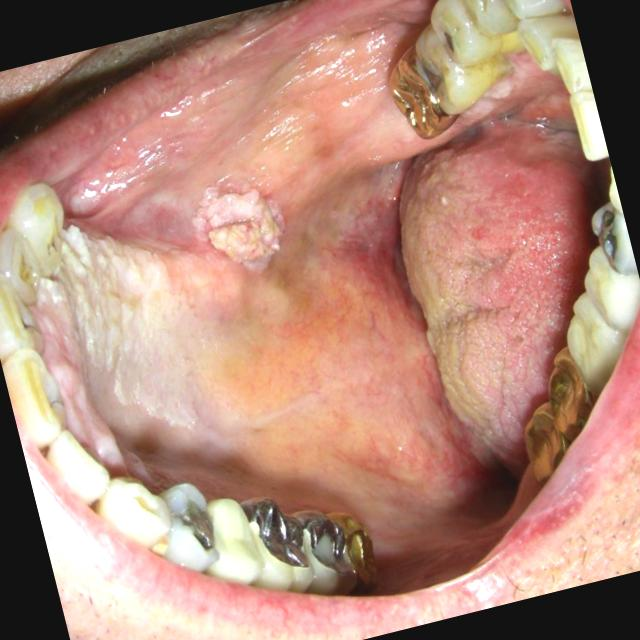Cancer: (4, 105, 355, 640), (343, 0, 640, 567)
